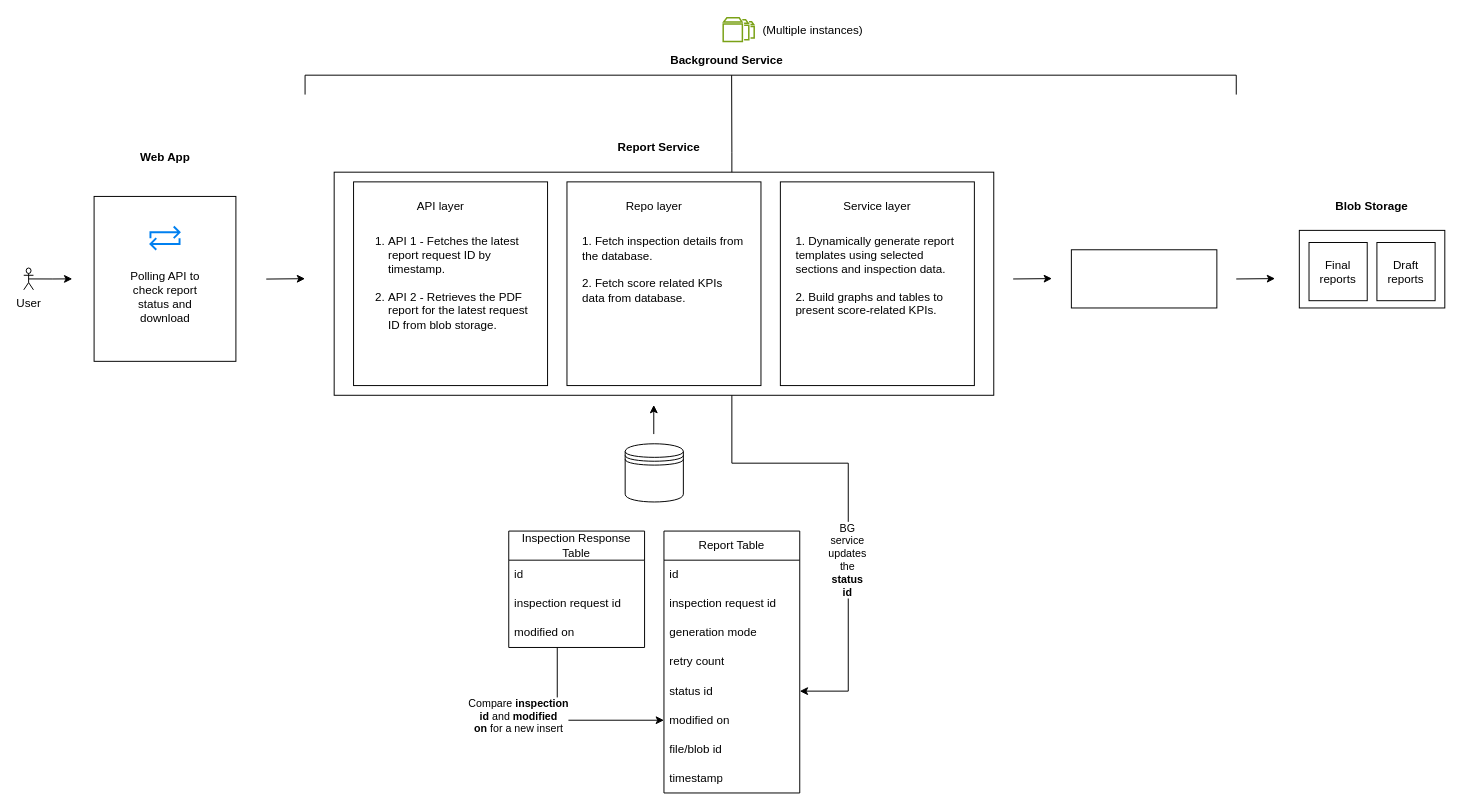
Some shapes in this 1467 by 810 pixel diagram are drawn without their labels. The shapes that lost their labels are listed below. From the top down, each one's centre as x and y in pixels, then its label:
At point 1143,278: "SNR Document Generator".
At point 653,472: "A&I DB".
